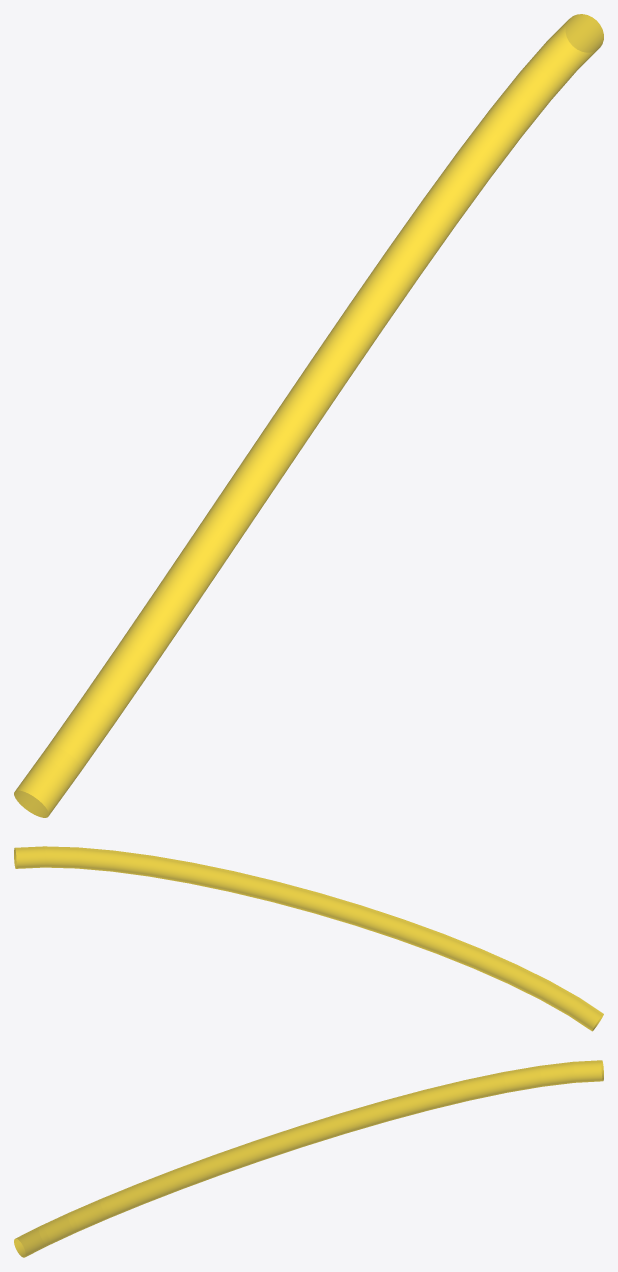
File: Event_15818458_track_55.fbx
The picture shows the model from 3 angles, top to bottom: view 1: azimuth 30°, elevation 25°; view 2: azimuth 150°, elevation 25°; view 3: azimuth 330°, elevation 25°; orthographic projection. The views are drawn at different scales.
Parts seen in each view (by area): view 1: Model; view 2: Model; view 3: Model.
Part boxes in pixels (x1=…): Model: x1=14, y1=14, x2=603, y2=817; Model: x1=14, y1=846, x2=603, y2=1031; Model: x1=14, y1=1060, x2=603, y2=1257.
Bounding box in the file's own units: 0.9619 × 0.3925 × 0.6102.
